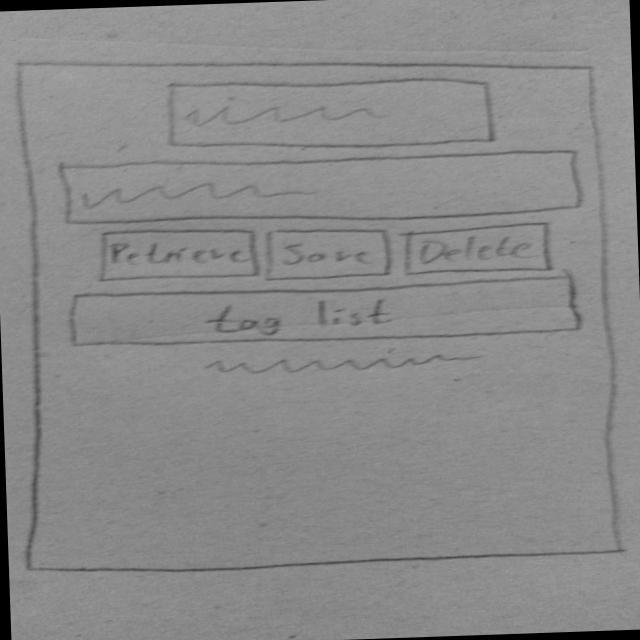button: (69, 274, 586, 352), (95, 223, 264, 288), (400, 220, 564, 284), (261, 229, 396, 282)
container: (3, 28, 638, 584)
input: (47, 141, 600, 234), (150, 68, 514, 158)
text: (185, 341, 496, 387)
